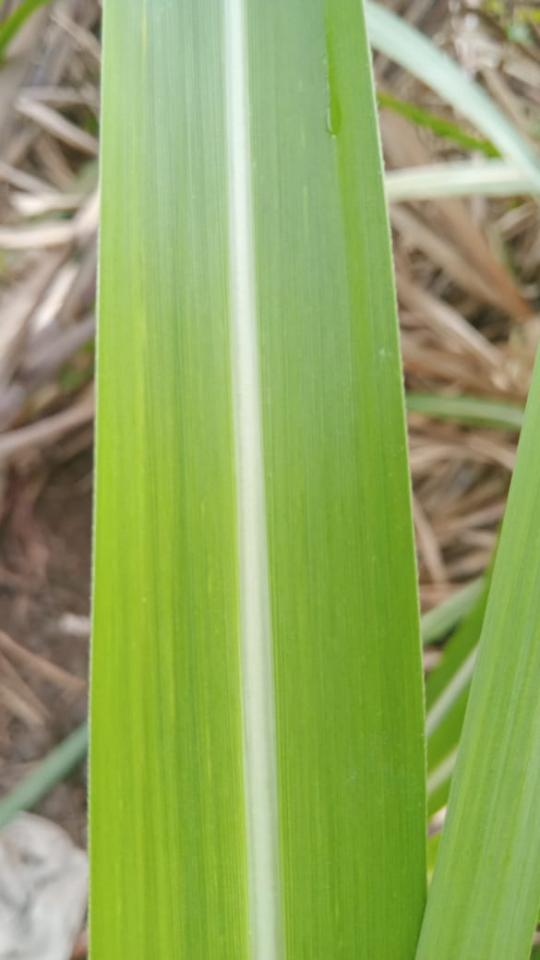Healthy: (90, 0, 427, 959), (415, 344, 539, 959)
